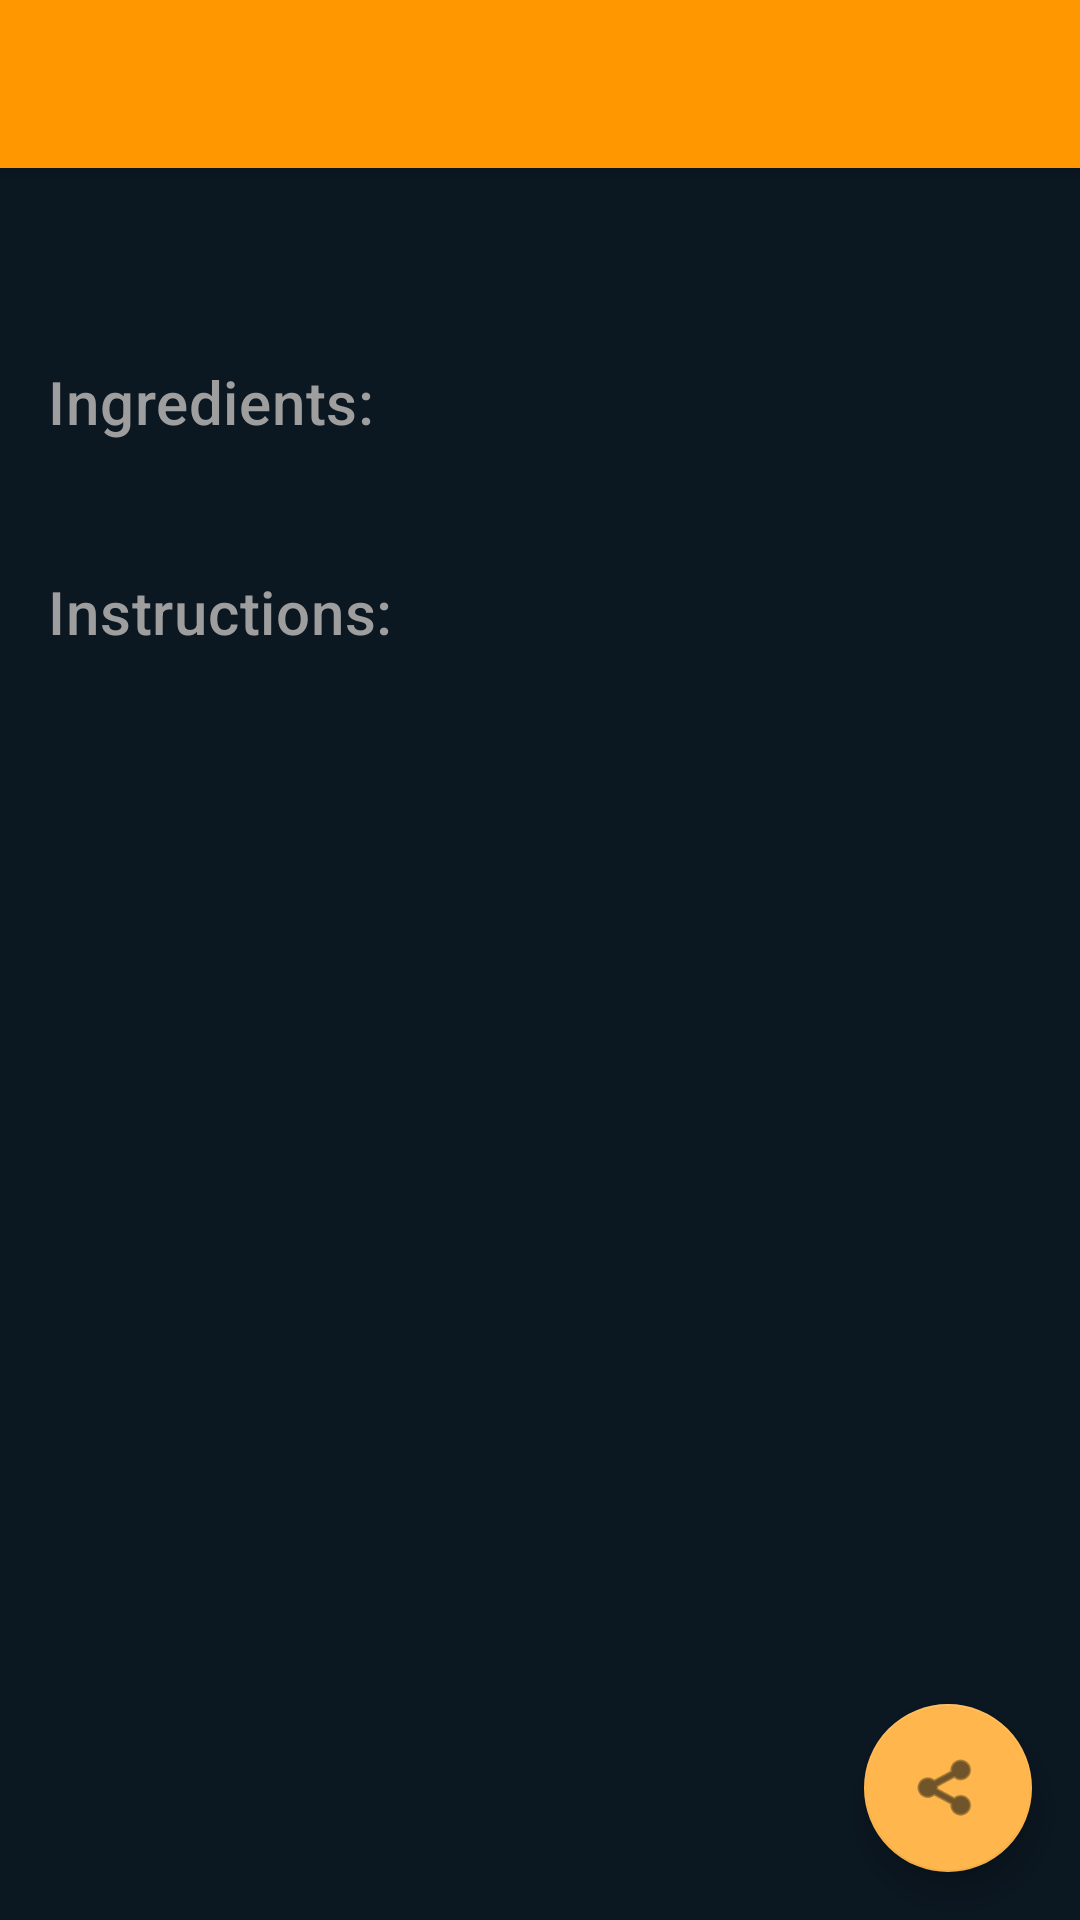

Icon click points for this 1080×1920 phone screenshot, format (x=x, y=y):
Share: (x=948, y=1788)
